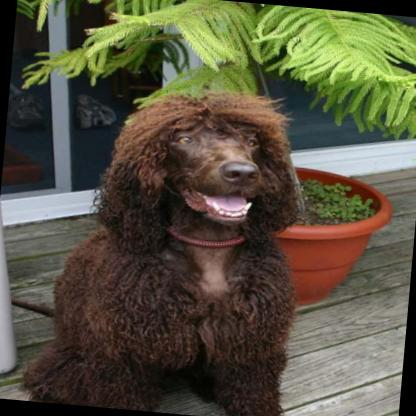Irish_water_spaniel: (11, 74, 324, 416)
